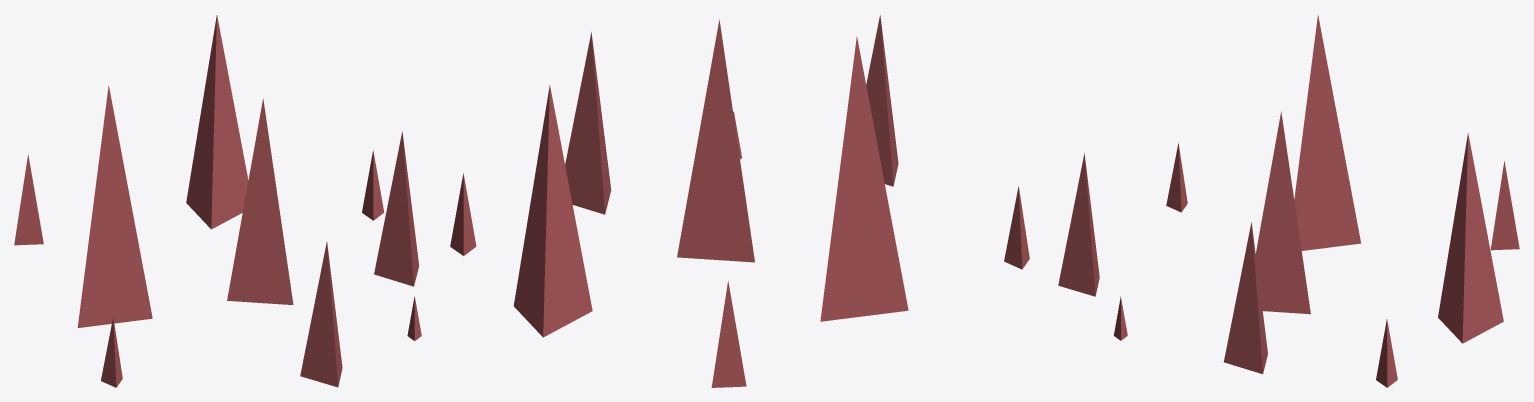
Rendered from world_2_grass_1.dae.
3 renders of one model, left to right at view 1: azimuth 30°, elevation 25°; view 2: azimuth 150°, elevation 25°; view 3: azimuth 270°, elevation 25°, orthographic. The views are drawn at different scales.
Visible parts, largest first — view 1: grass_1; view 2: grass_1; view 3: grass_1.
Boxes of the visible parts, x1,y1,x2,y2 form: grass_1: (14, 15, 421, 387); grass_1: (450, 15, 1029, 387); grass_1: (1058, 15, 1519, 387).
Size of the model in its own units: 0.3435 by 0.3635 by 0.1957.
